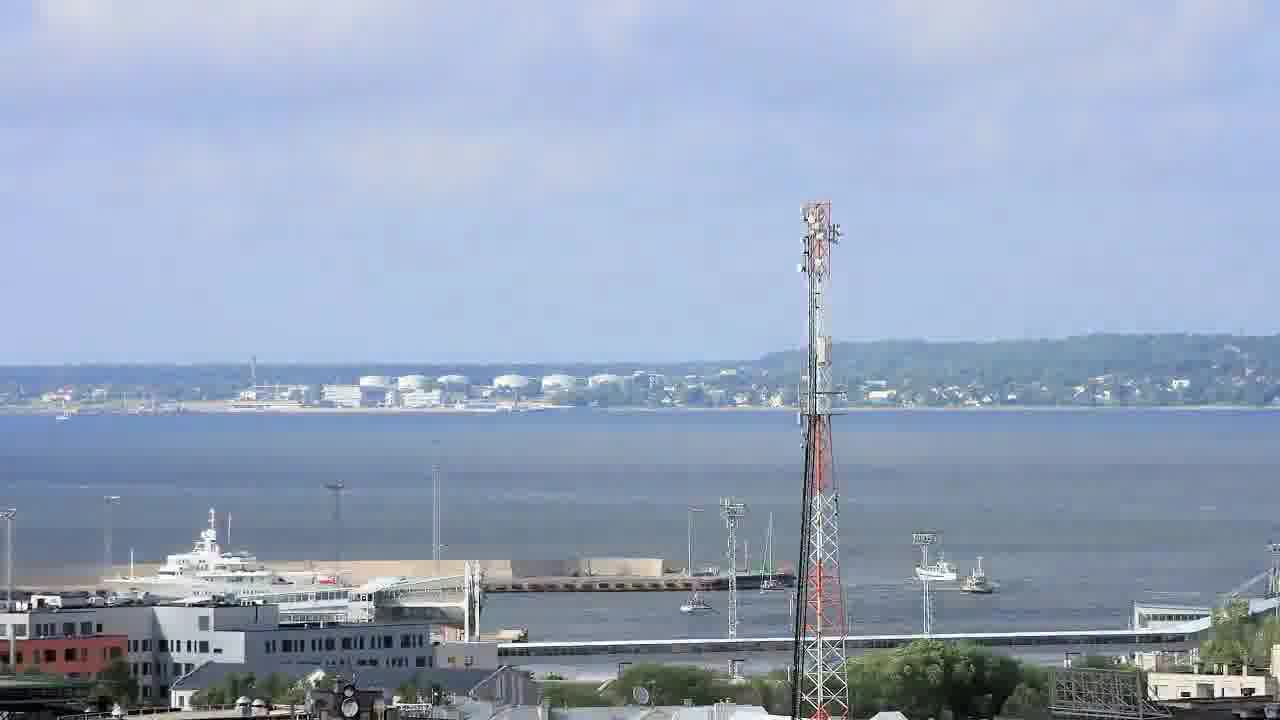type-0: (747, 551, 790, 604), (960, 557, 1004, 607)
type-1: (909, 541, 956, 592), (670, 583, 725, 626)
type-3: (83, 517, 370, 614)
